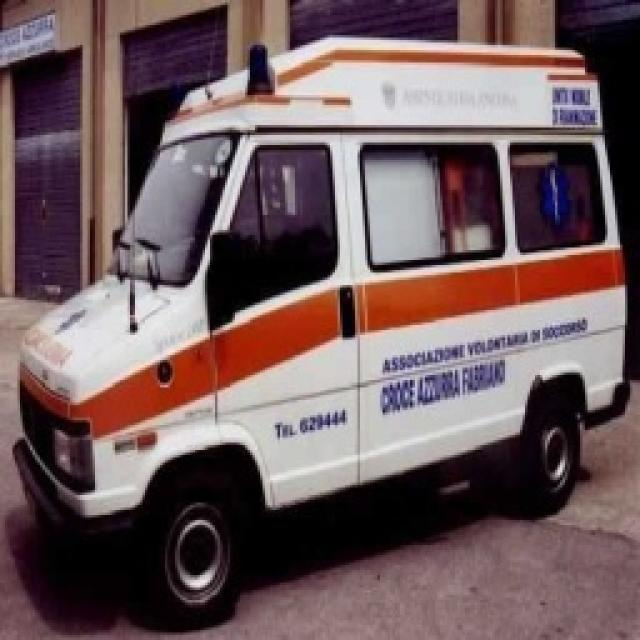emergency-vehicle: (20, 31, 592, 589)
